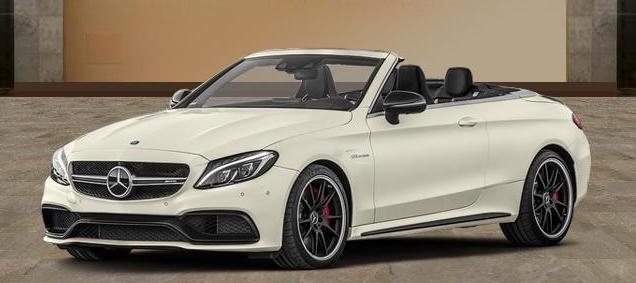C63AMG: (38, 41, 597, 271)
